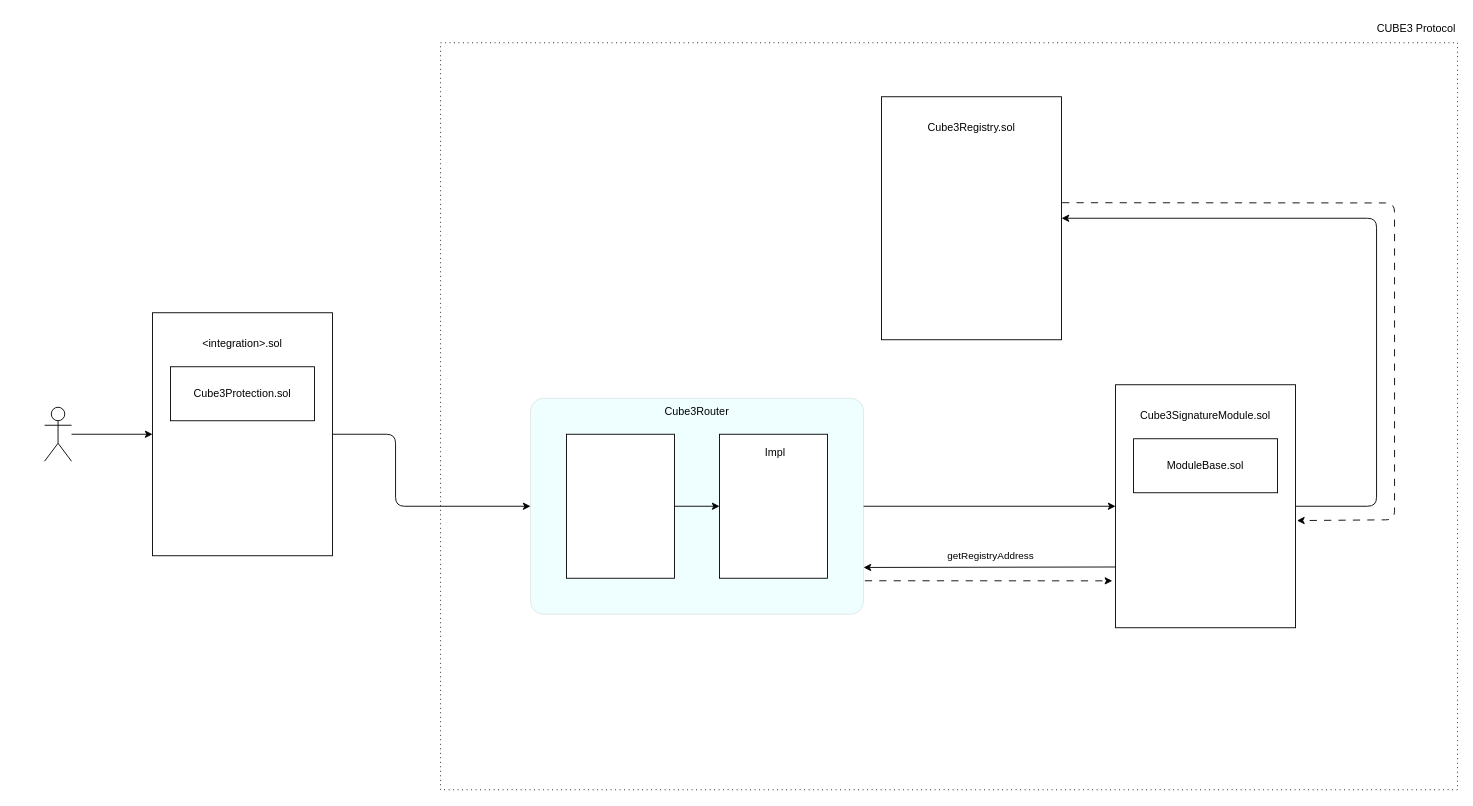
This 1473x806 diagram has some shape labels left out. The shapes that lost their labels are listed below. From the top down, each one's box as (x1, y1, x2, y2) in pixels, then its label:
(44, 406, 72, 461): Integration's User ( EOA )
(566, 433, 675, 578): Proxy
